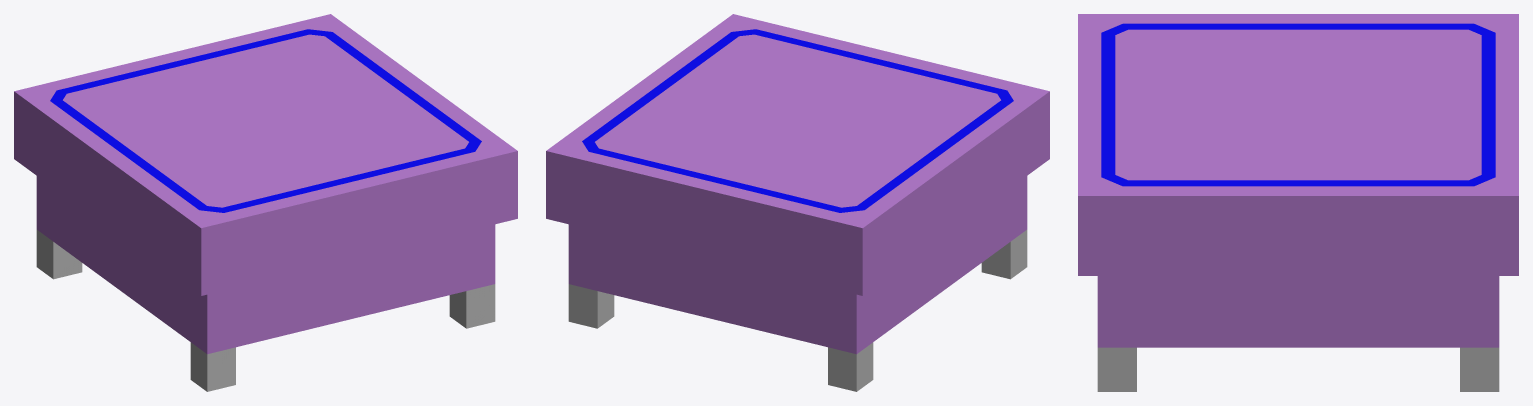
Rendered from loungeSofaOttoman.glb.
3 views of the same model, side by side, from view 1: azimuth 30°, elevation 25°; view 2: azimuth 150°, elevation 25°; view 3: azimuth 270°, elevation 25° (orthographic). The views are drawn at different scales.
Visible parts, largest first — view 1: loungeSofaOttoman; view 2: loungeSofaOttoman; view 3: loungeSofaOttoman.
Part boxes in pixels (x1,y1,x2,y2): loungeSofaOttoman: (14,14,517,391); loungeSofaOttoman: (546,14,1049,391); loungeSofaOttoman: (1078,14,1518,391).
Size of the model in its own units: 0.9667 by 0.5055 by 0.989.
